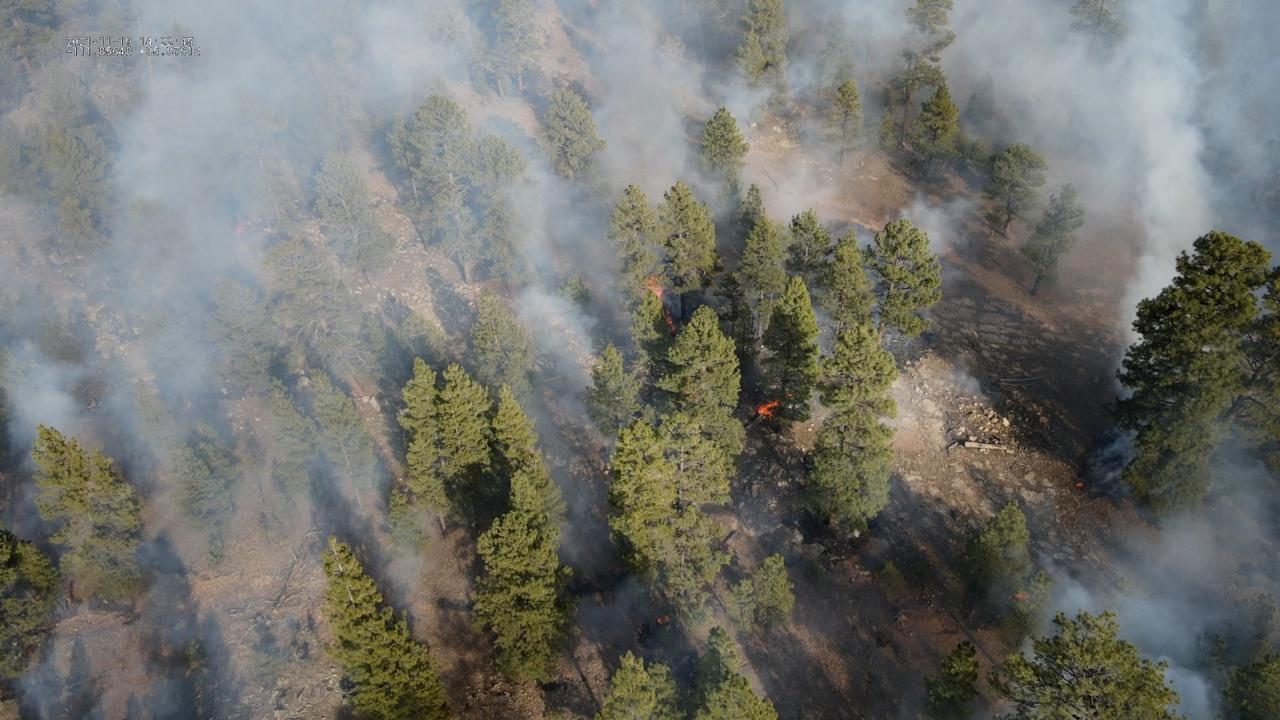fire: (644, 277, 676, 333), (755, 399, 780, 417), (232, 219, 246, 236), (656, 614, 671, 626), (1014, 591, 1030, 601), (1075, 479, 1085, 488)
smoke: (0, 0, 1280, 720)
